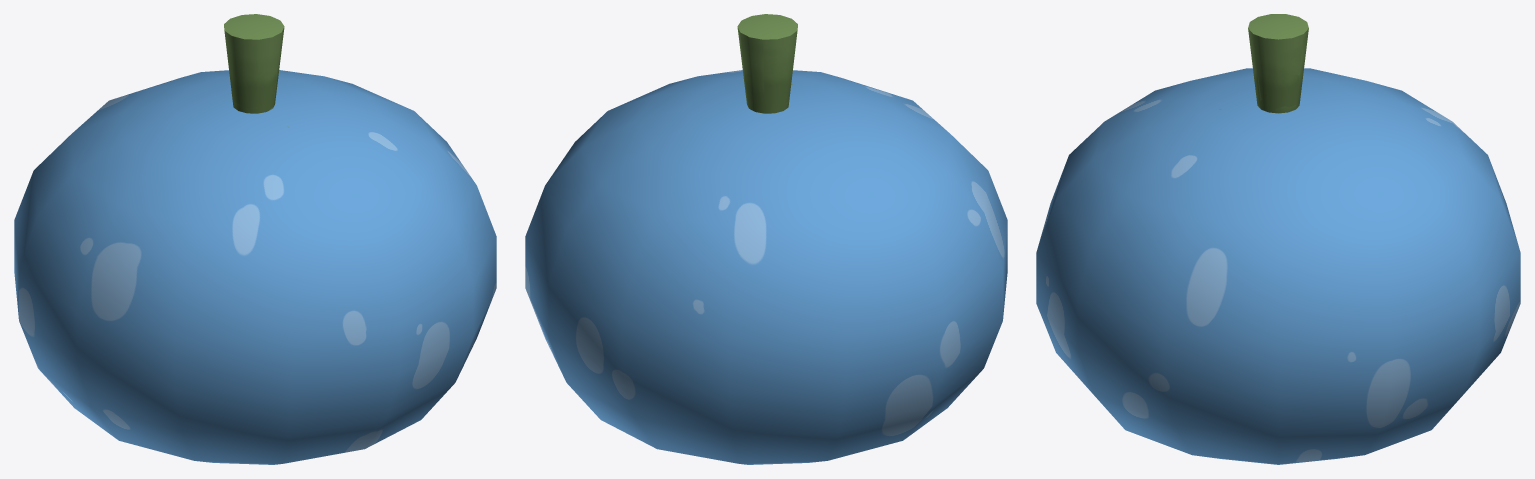
Rendered from berry2.fbx.
3 views of the same model, side by side, from view 1: azimuth 30°, elevation 25°; view 2: azimuth 150°, elevation 25°; view 3: azimuth 270°, elevation 25° (orthographic).
Visible parts, largest first — view 1: pSphere1; view 2: pSphere1; view 3: pSphere1.
Part boxes in pixels (bbox=[...]): pSphere1: bbox=[14, 14, 496, 464]; pSphere1: bbox=[525, 14, 1007, 464]; pSphere1: bbox=[1036, 14, 1520, 464].
Bounding box in the file's own units: 4.44 × 4.15 × 4.48.
1 material, 1 textured.
